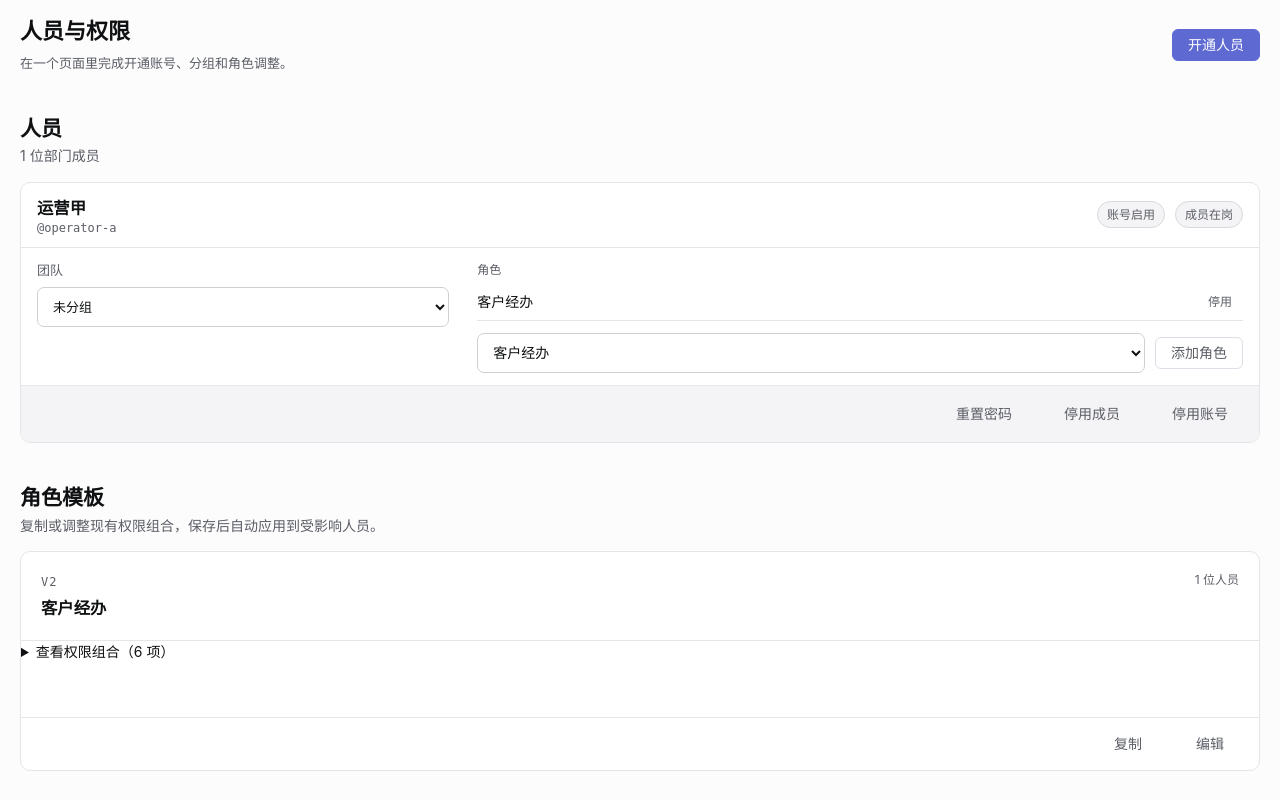
Test: PeopleAccessPage › loads the people, teams and roles in one workspace
What coordinates should you click on to do the following:
click the button with test id "edit-role-role-1"
I would click on:
 (1210, 744)
Its box is [1181, 728, 1239, 760].
(page scrolled)
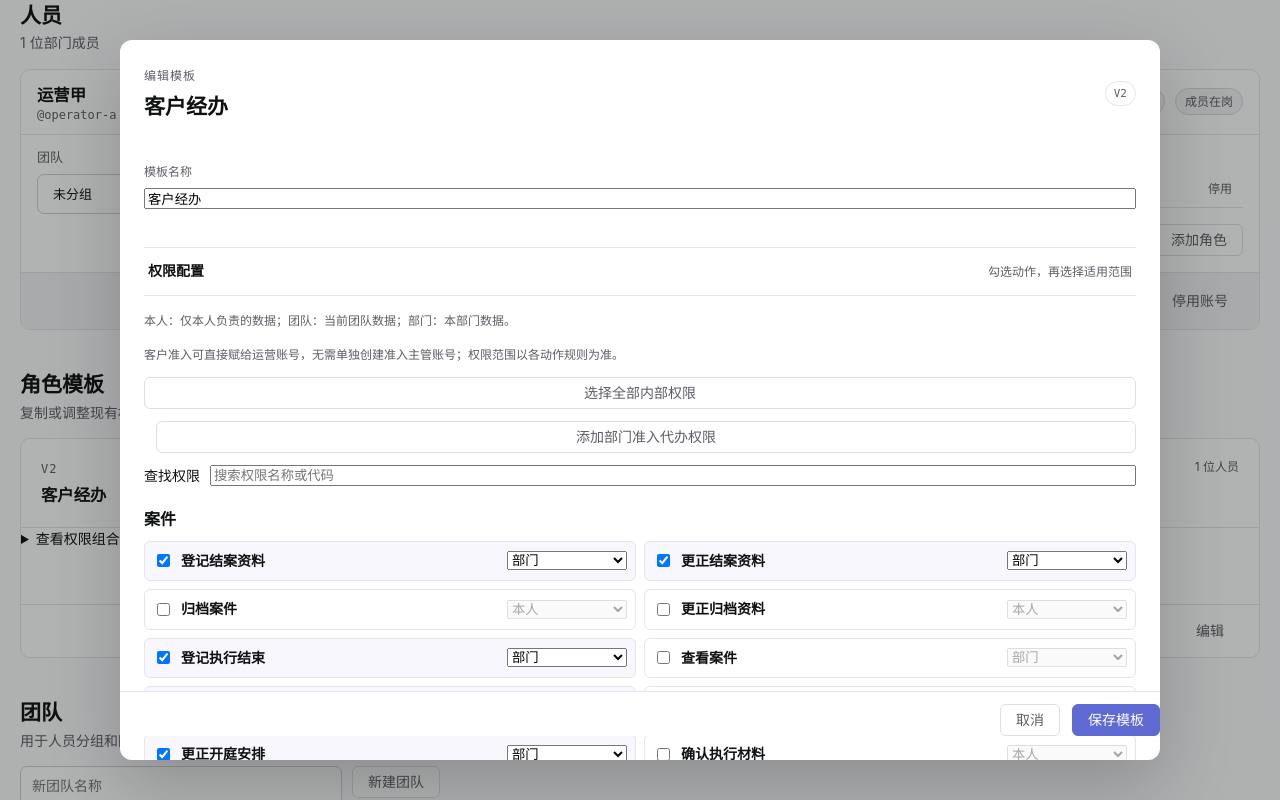
Result: the checkbox with test id "grant-CASE_EXECUTION_FINISH" is shown at [157, 651, 170, 664]
Result: the checkbox with test id "grant-CASE_READ" is shown at [657, 651, 670, 664]
Result: the checkbox with test id "grant-CASE_HEARING_CORRECT" is shown at [157, 748, 170, 760]
